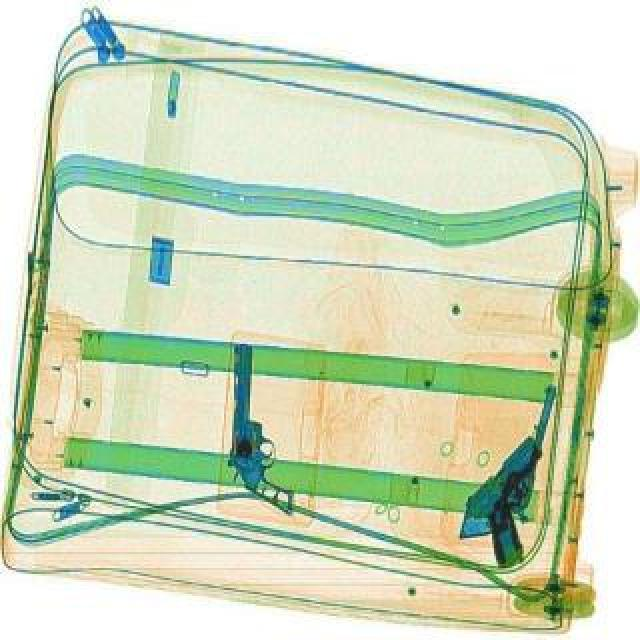gun: (478, 378, 582, 574), (212, 334, 296, 522), (446, 434, 562, 550)
